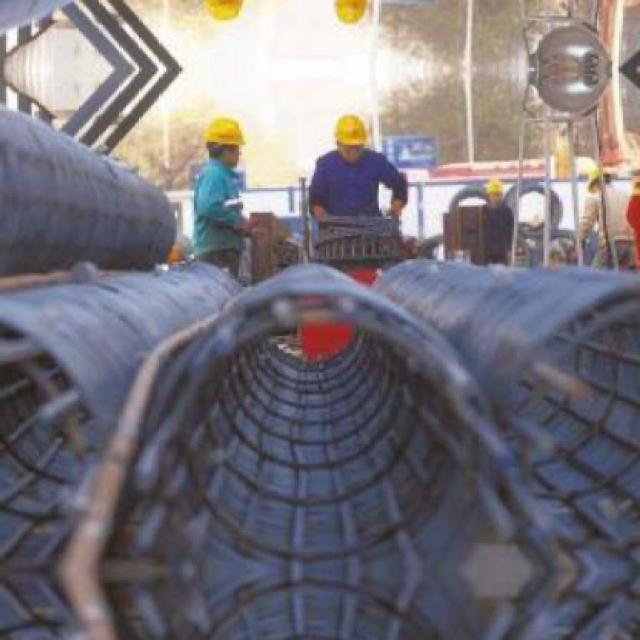helmet: (203, 108, 245, 167), (332, 103, 372, 162), (331, 0, 372, 37), (203, 0, 246, 32), (588, 163, 618, 193), (483, 174, 511, 205)
